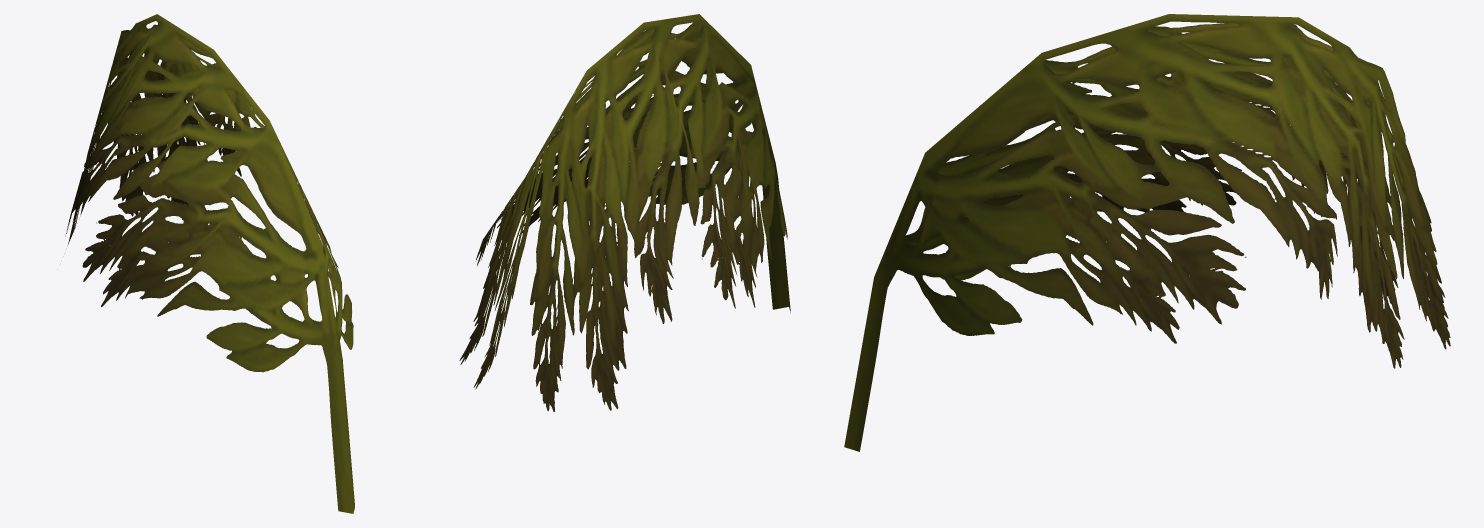
The model's file is WetLands_Fern_04.fbx.
3 views of the same model, side by side, from view 1: azimuth 30°, elevation 25°; view 2: azimuth 150°, elevation 25°; view 3: azimuth 270°, elevation 25° (orthographic). The views are drawn at different scales.
Visible parts, largest first — view 1: WetLands_Fern_04; view 2: WetLands_Fern_04; view 3: WetLands_Fern_04.
Boxes of the visible parts, x1=… form: WetLands_Fern_04: x1=65, y1=14, x2=354, y2=513; WetLands_Fern_04: x1=459, y1=14, x2=790, y2=411; WetLands_Fern_04: x1=844, y1=14, x2=1450, y2=451.
Size of the model in its own units: 1.19 by 1.76 by 2.32.
1 material, 1 textured.
